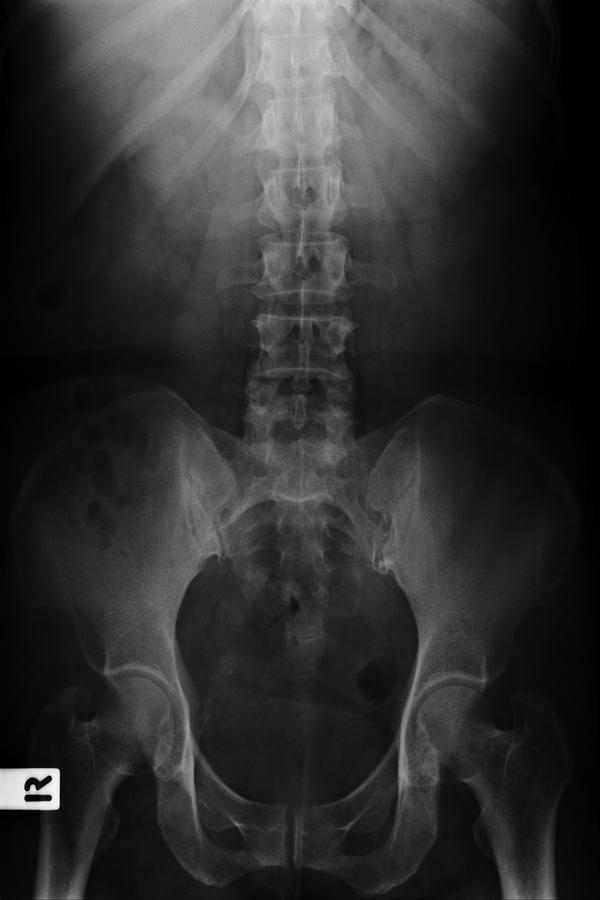not lumbar scoliosis: (242, 138, 365, 480)
